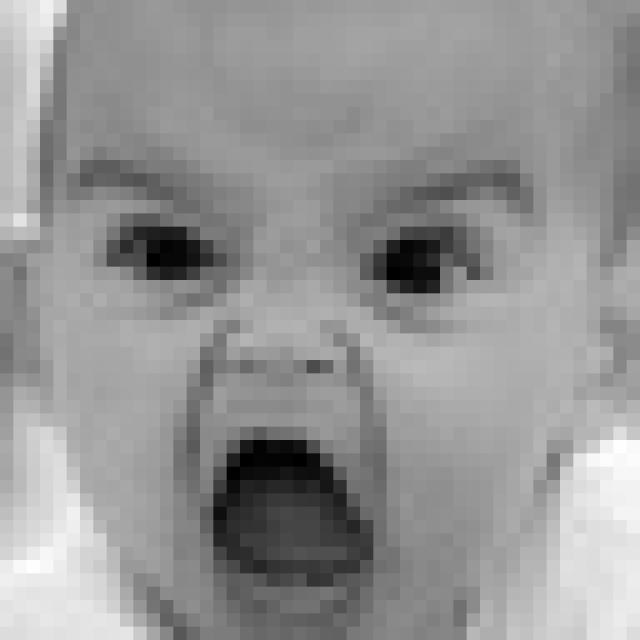angry: (67, 157, 544, 624)
